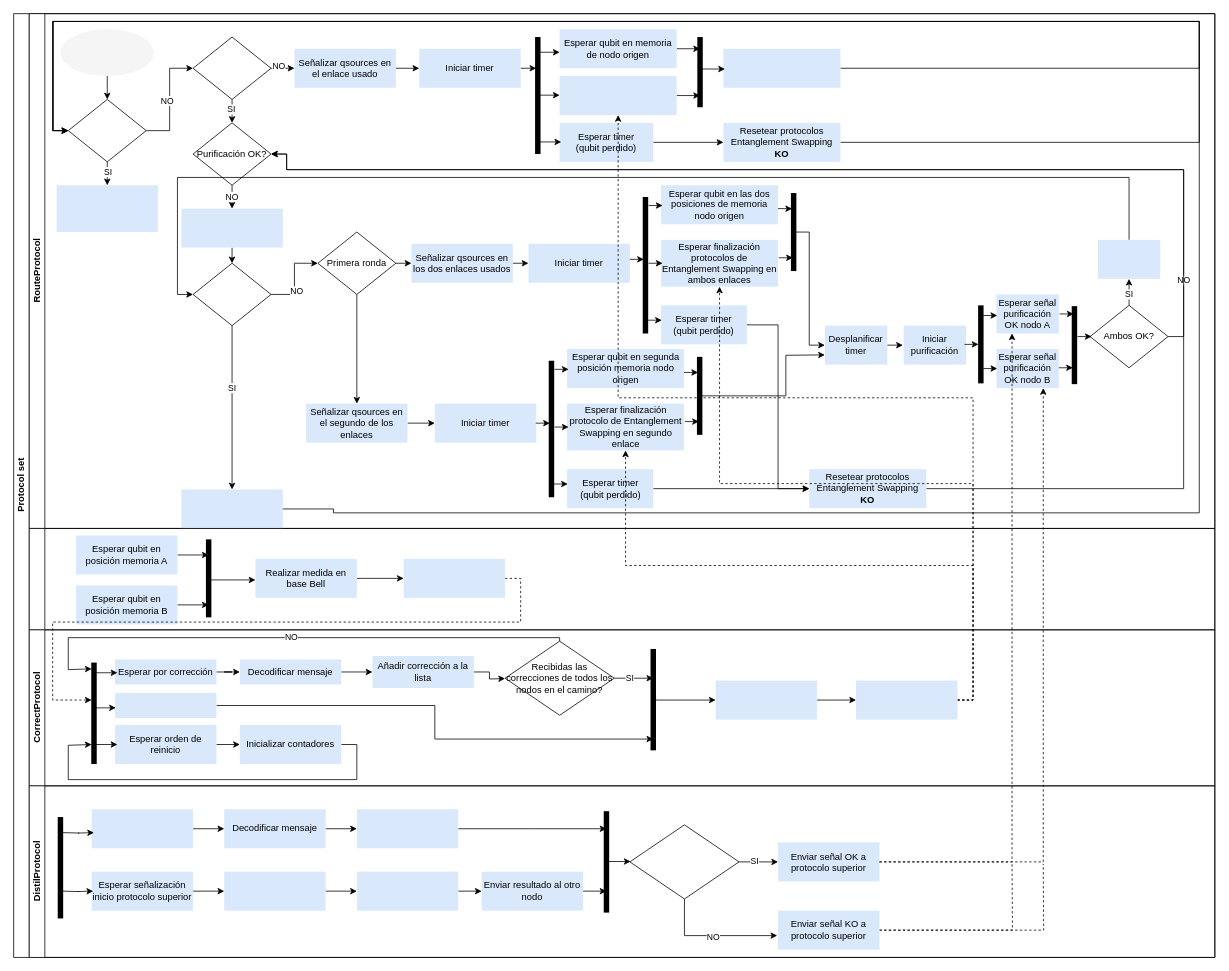
Some shapes in this 1229 by 971 pixel diagram are drawn without their labels. Each missing label, with the box of its shape:
Ambos extremos mismo resultado purificación?: (629, 824, 739, 899)
Aplicar correcciones en qubit: (715, 680, 817, 719)
Desplanificar timer ÉXITO: (723, 48, 840, 87)
Ejecutar circuito DEJMPS: (356, 871, 458, 910)
Enviar correcciones al siguiente nodo: (403, 558, 505, 597)
Enviar señal al protocolo solicitante notificando fin de entrelazamiento: (56, 185, 158, 232)
Enviar señal SUCCESS a protocolo principal: (856, 680, 957, 719)
Esperar finalización protocolos de Entanglement Swapping: (559, 76, 676, 115)
Esperar mensaje clásico con resultado en el otro nodo: (91, 809, 193, 848)
Esperar por qubit en memoria: (115, 693, 216, 718)
Guardar resultado purificación en el otro nodo: (356, 809, 458, 848)
Hay purificación?: (192, 36, 271, 99)
Identificar posiciones de memoria en las que hacer purificación: (224, 871, 325, 910)
Incrementar ronda purificación: (1097, 239, 1160, 278)
Inicializar purificación: (181, 208, 282, 247)
Recibe solicitud entrelazamiento: (60, 29, 154, 76)
Se ha generado con éxito?: (67, 99, 146, 162)
SwapProtocol: (28, 528, 1215, 630)
Todas las rondas de purificiación aplicadas?: (192, 262, 271, 326)
ÉXITO: (181, 489, 282, 528)
